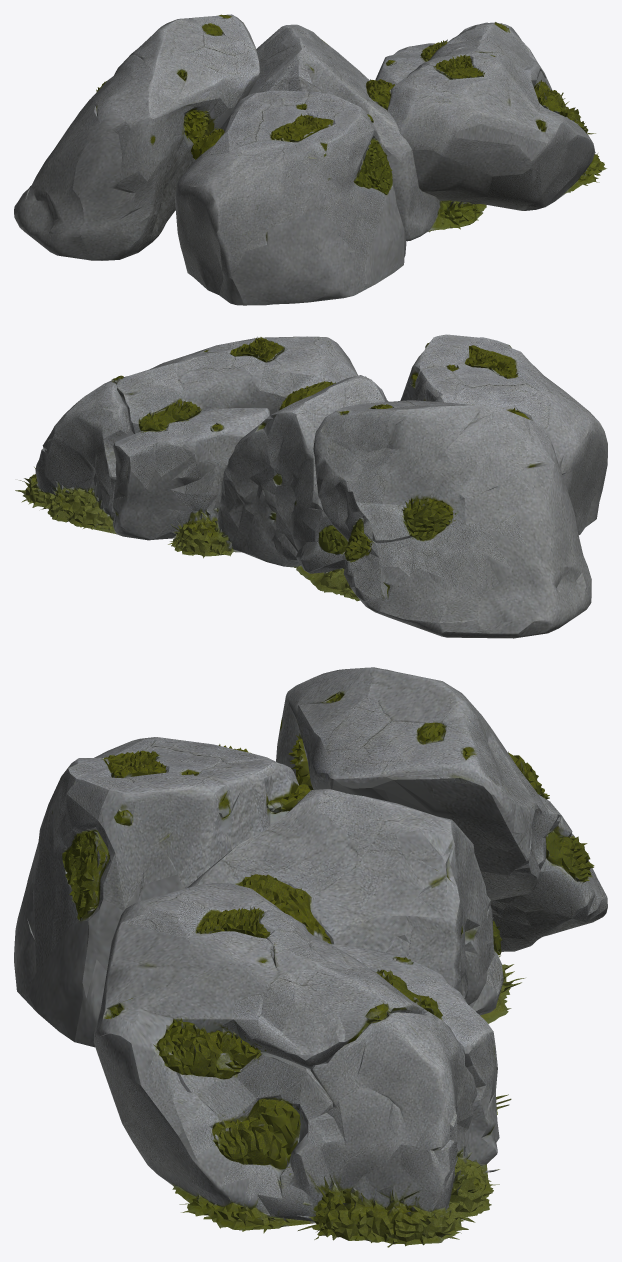
Rendered from boulders.glb.
3 renders of one model, top to bottom at view 1: azimuth 30°, elevation 25°; view 2: azimuth 150°, elevation 25°; view 3: azimuth 270°, elevation 25°, orthographic. The views are drawn at different scales.
Bounding box in the file's own units: 1.9 × 0.6019 × 1.18.
Materials: 1 (1 with a texture image).
